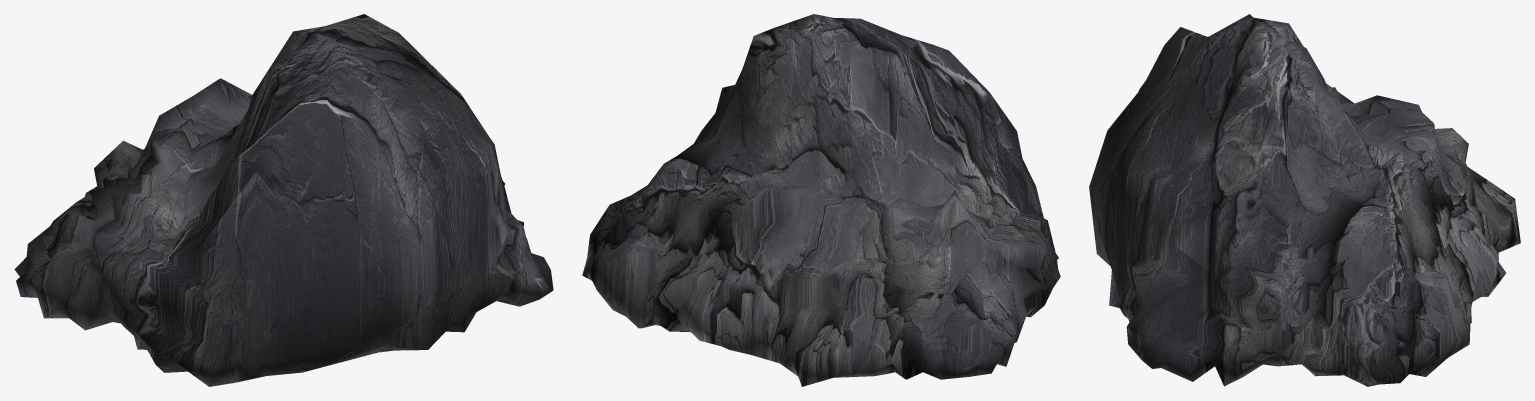
File: RockWall1.fbx
3 views of the same model, side by side, from view 1: azimuth 30°, elevation 25°; view 2: azimuth 150°, elevation 25°; view 3: azimuth 270°, elevation 25° (orthographic). The views are drawn at different scales.
Parts seen in each view (by area): view 1: Куб.078; view 2: Куб.078; view 3: Куб.078.
Part boxes in pixels (x1=…): Куб.078: x1=14, y1=14, x2=553, y2=386; Куб.078: x1=582, y1=14, x2=1060, y2=386; Куб.078: x1=1089, y1=14, x2=1520, y2=386.
Bounding box in the file's own units: 490 × 304 × 411.
